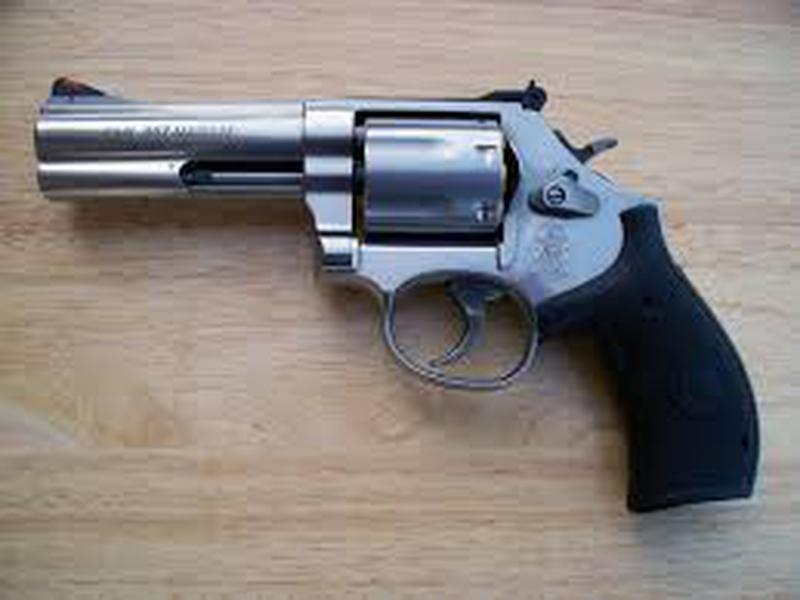Revolver: (26, 53, 772, 522)
